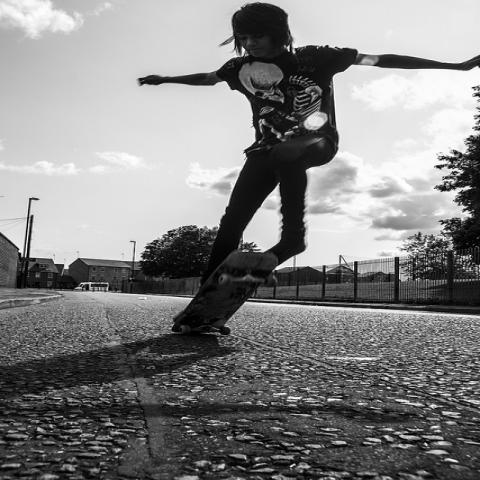bus: (73, 282, 109, 292)
